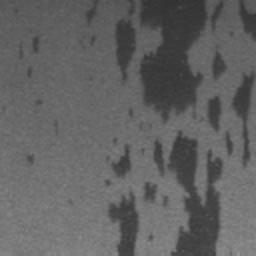Red iron sheet: (105, 0, 256, 256), (17, 37, 40, 79), (84, 0, 100, 24), (128, 108, 134, 119), (28, 154, 35, 163), (91, 35, 96, 46)
